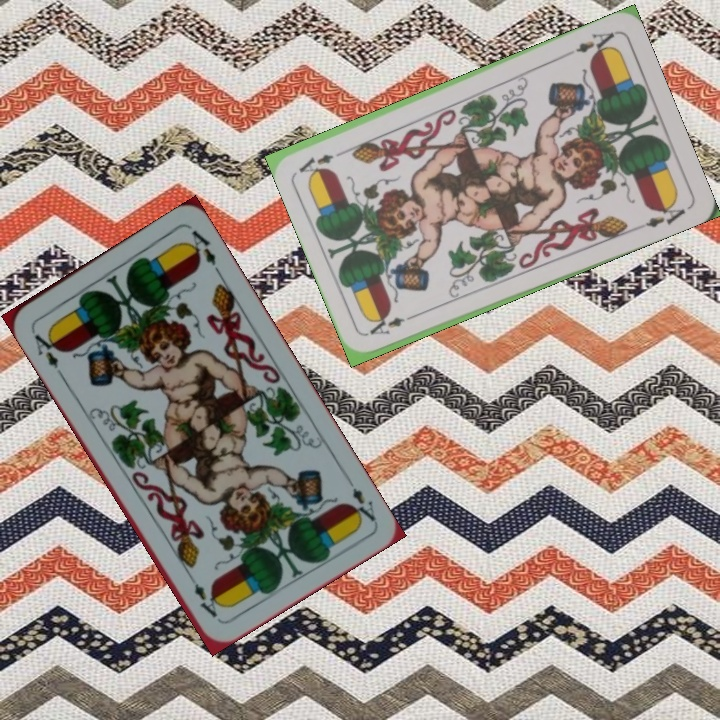EA: (344, 471, 379, 526), (30, 326, 65, 378), (562, 27, 618, 59), (365, 309, 420, 338)
